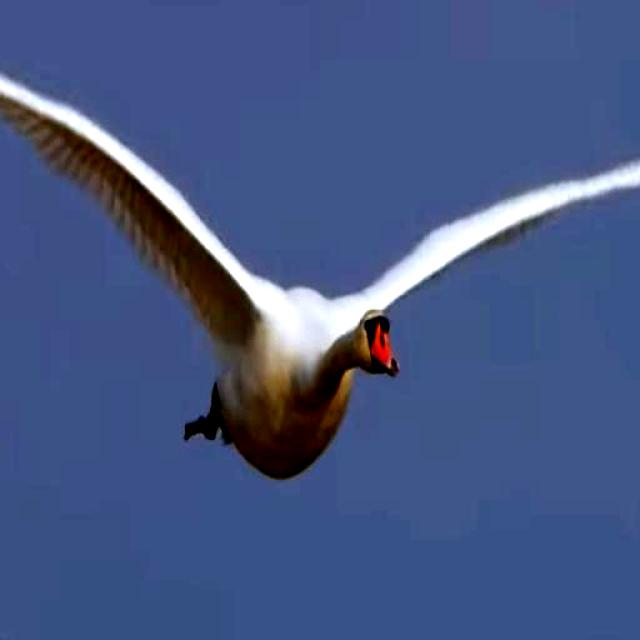airplane: (0, 0, 640, 486)
